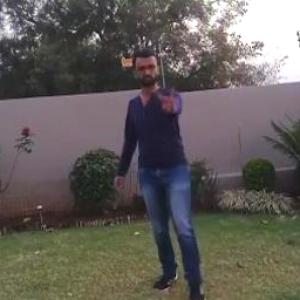takeoff-hand: (152, 84, 186, 120)
